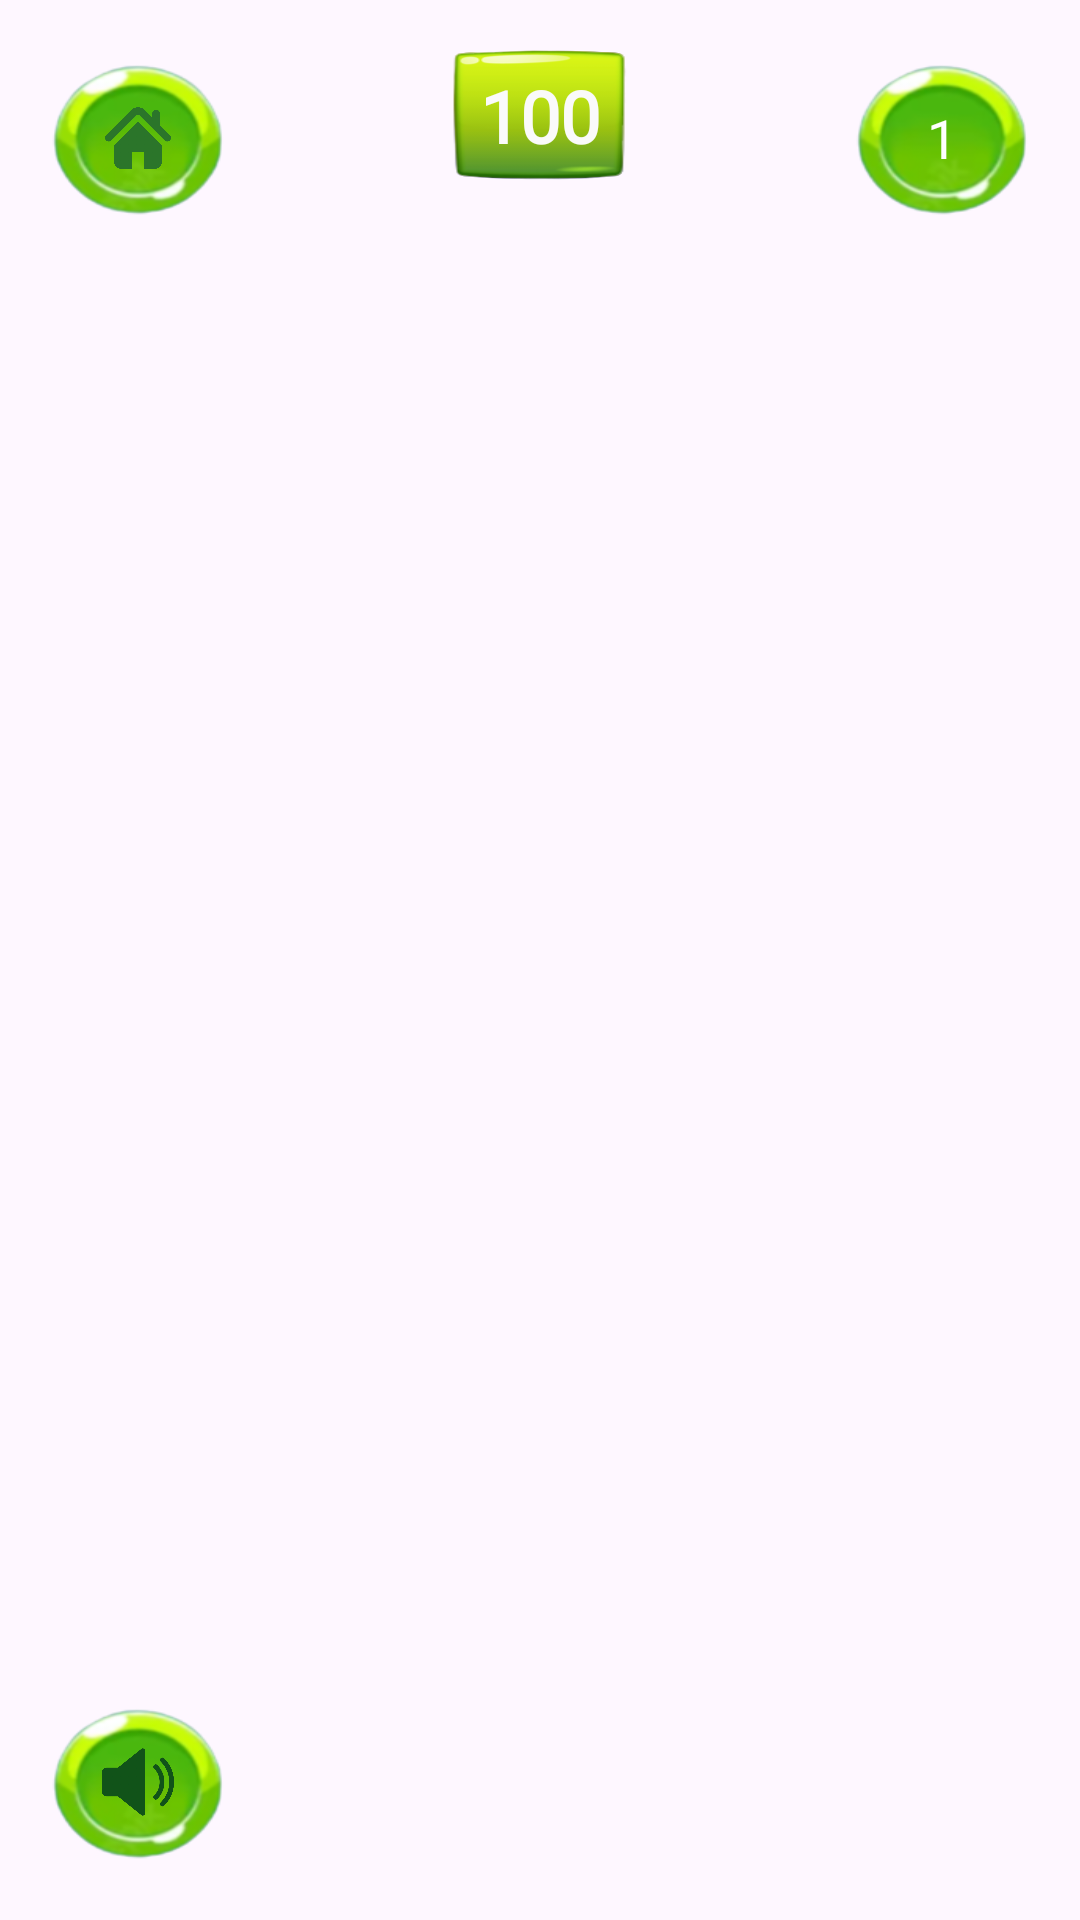

Icon click points for this 1080px×1920px phone screenshot, format point (x, y):
home: point (138, 140)
sound on: point (138, 1784)
